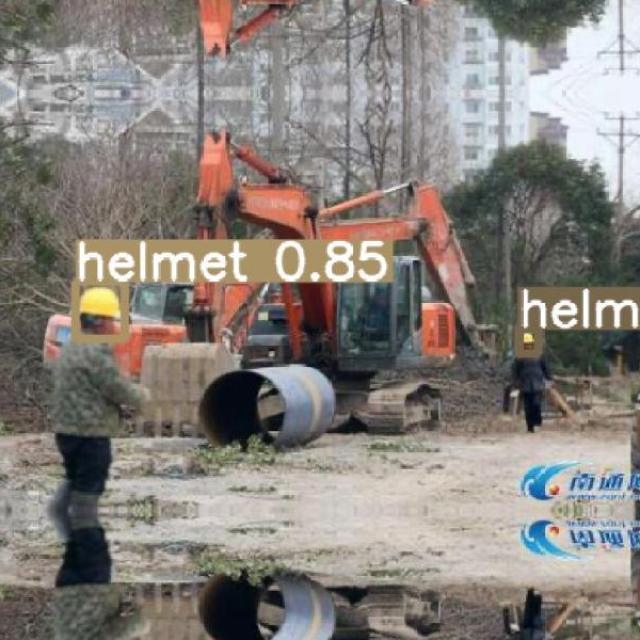helmet: (78, 286, 119, 318)
